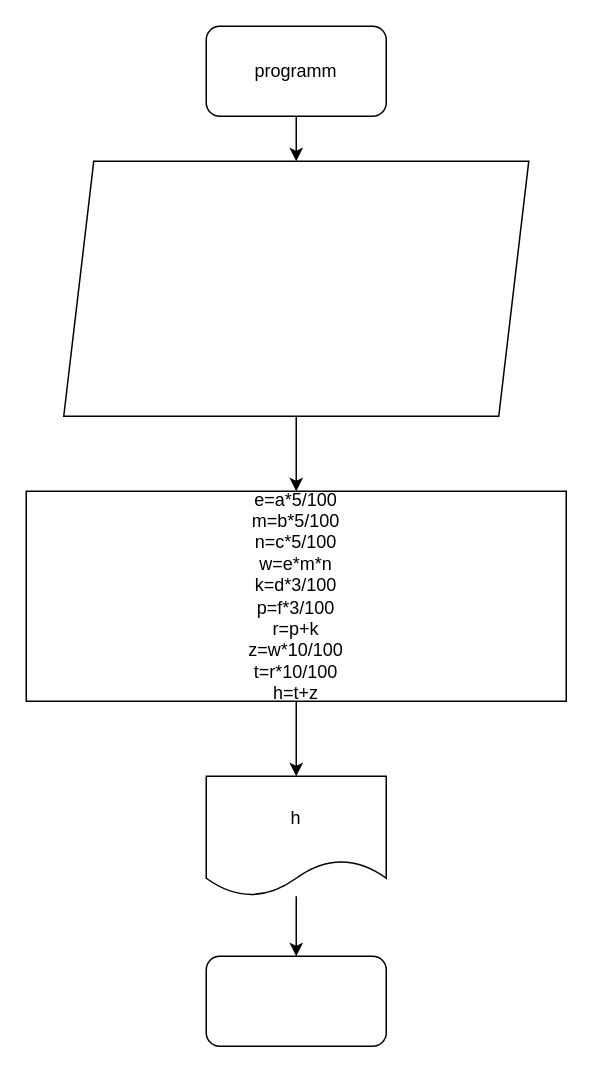
This 593x1073 diagram has some shape labels left out. The centre of each missing label's shape, as x and y in pixels:
a=12345 b=23451 c=43215 d=321 f=123 e;m;n;w;k;p;r;z;t;h: [295,288]
finish: [295,1000]
